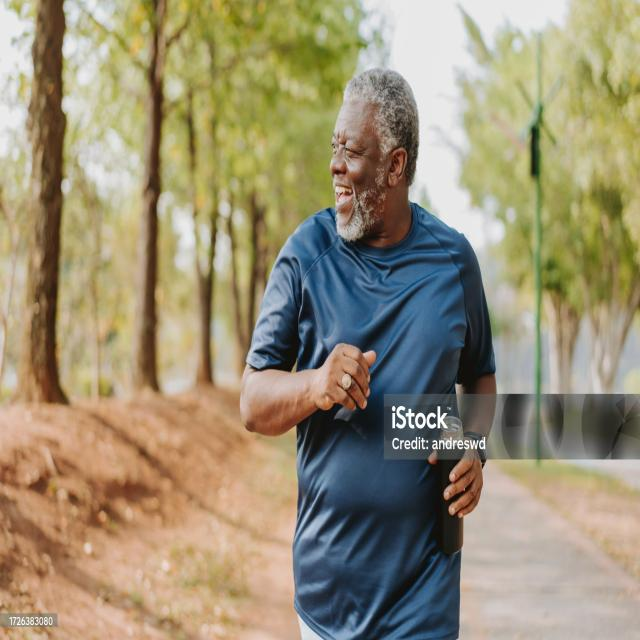Real human 2: (234, 63, 516, 640)
